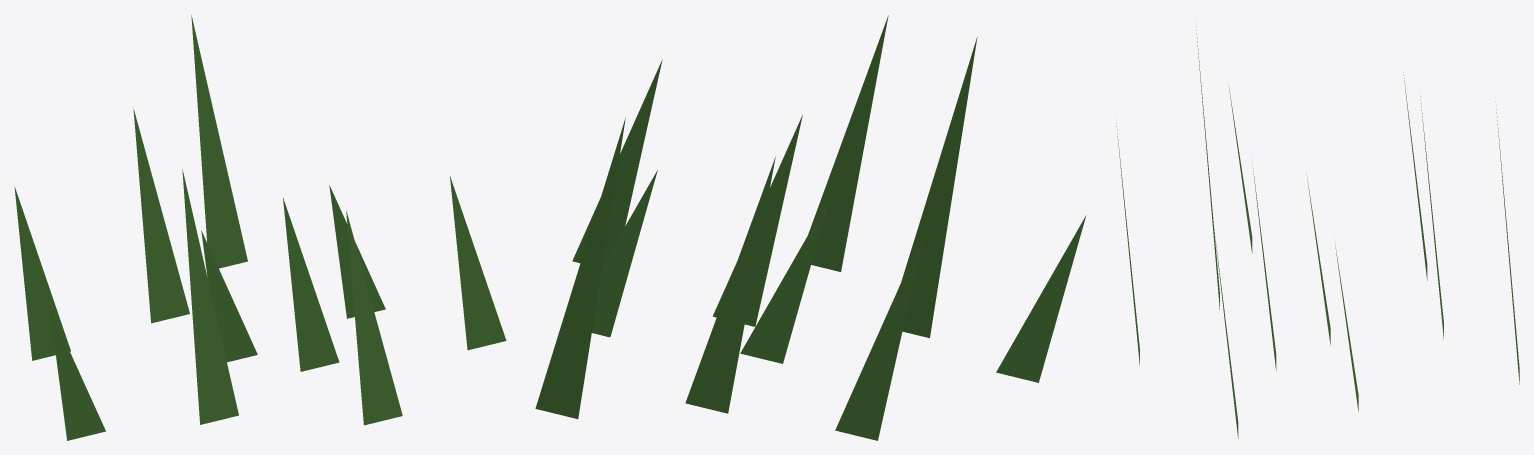
The model's file is GrassClump.obj.
The picture shows the model from 3 angles, left to right: view 1: azimuth 30°, elevation 25°; view 2: azimuth 150°, elevation 25°; view 3: azimuth 270°, elevation 25°; orthographic projection. The views are drawn at different scales.
Parts seen in each view (by area): view 1: GrassClump; view 2: GrassClump; view 3: GrassClump.
Boxes of the visible parts, x1=… form: GrassClump: x1=14, y1=15, x2=506, y2=440; GrassClump: x1=535, y1=15, x2=1086, y2=440; GrassClump: x1=1116, y1=22, x2=1519, y2=438.
Size of the model in its own units: 0.8309 by 0.47 by 0.6527.
